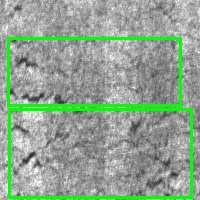crazing: (9, 109, 191, 197), (8, 38, 180, 105)
